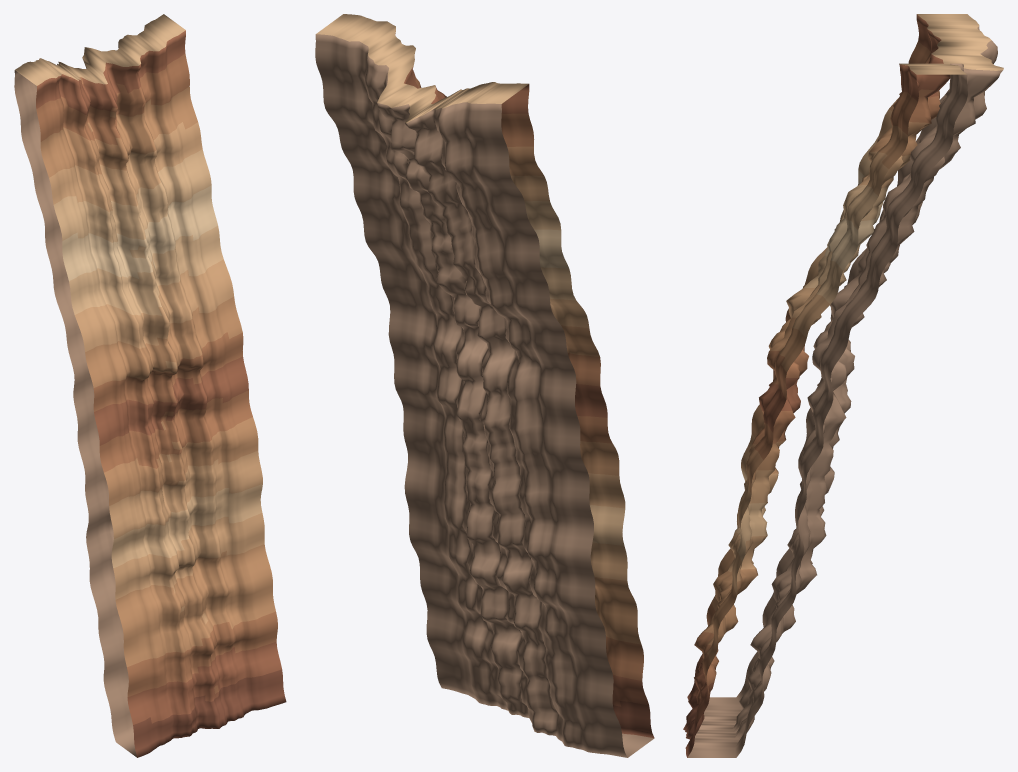
File: SM_CanyonWall_L_Rise_3m.glb
The picture shows the model from 3 angles, left to right: view 1: azimuth 30°, elevation 25°; view 2: azimuth 150°, elevation 25°; view 3: azimuth 270°, elevation 25°; orthographic projection. The views are drawn at different scales.
Visible parts, largest first — view 1: SM_CanyonWall_L_Rise_3m; view 2: SM_CanyonWall_L_Rise_3m; view 3: SM_CanyonWall_L_Rise_3m.
Boxes of the visible parts, left/top/right/bottom form: SM_CanyonWall_L_Rise_3m: left=14, top=14, right=286, bottom=757; SM_CanyonWall_L_Rise_3m: left=315, top=14, right=654, bottom=757; SM_CanyonWall_L_Rise_3m: left=683, top=14, right=1003, bottom=757.
Size of the model in its own units: 24 by 95 by 39.16.
